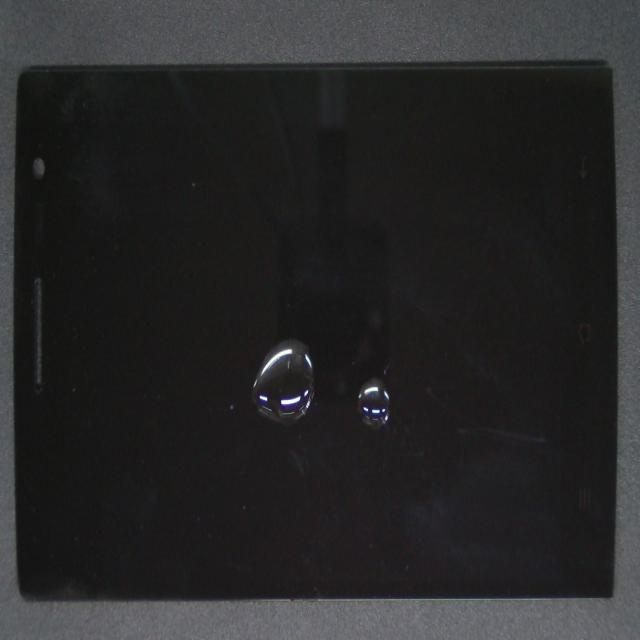oil: (206, 197, 586, 578), (169, 207, 462, 539)
